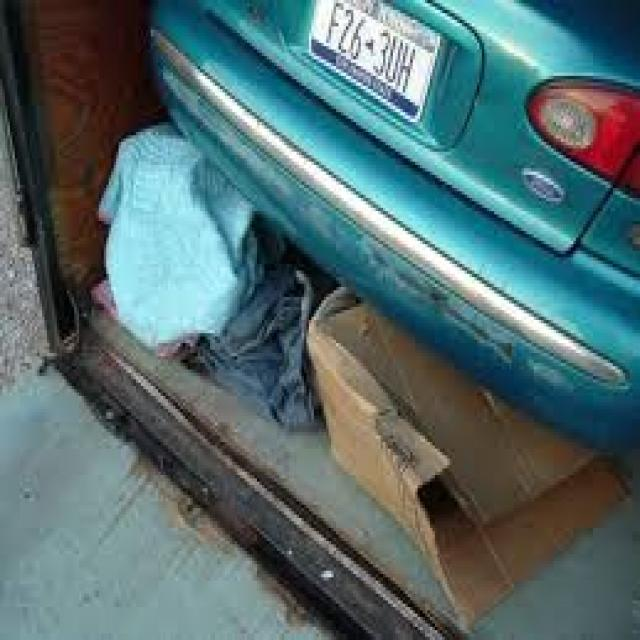minor: (139, 5, 631, 429)
